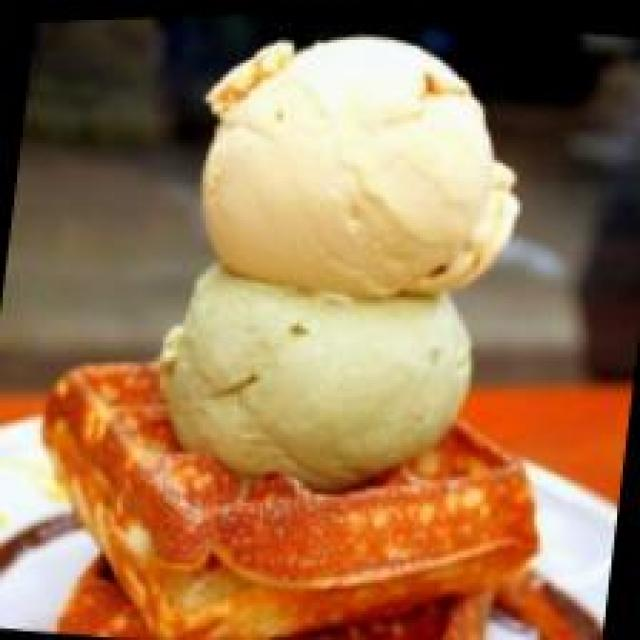Waffles: (14, 308, 557, 640)
